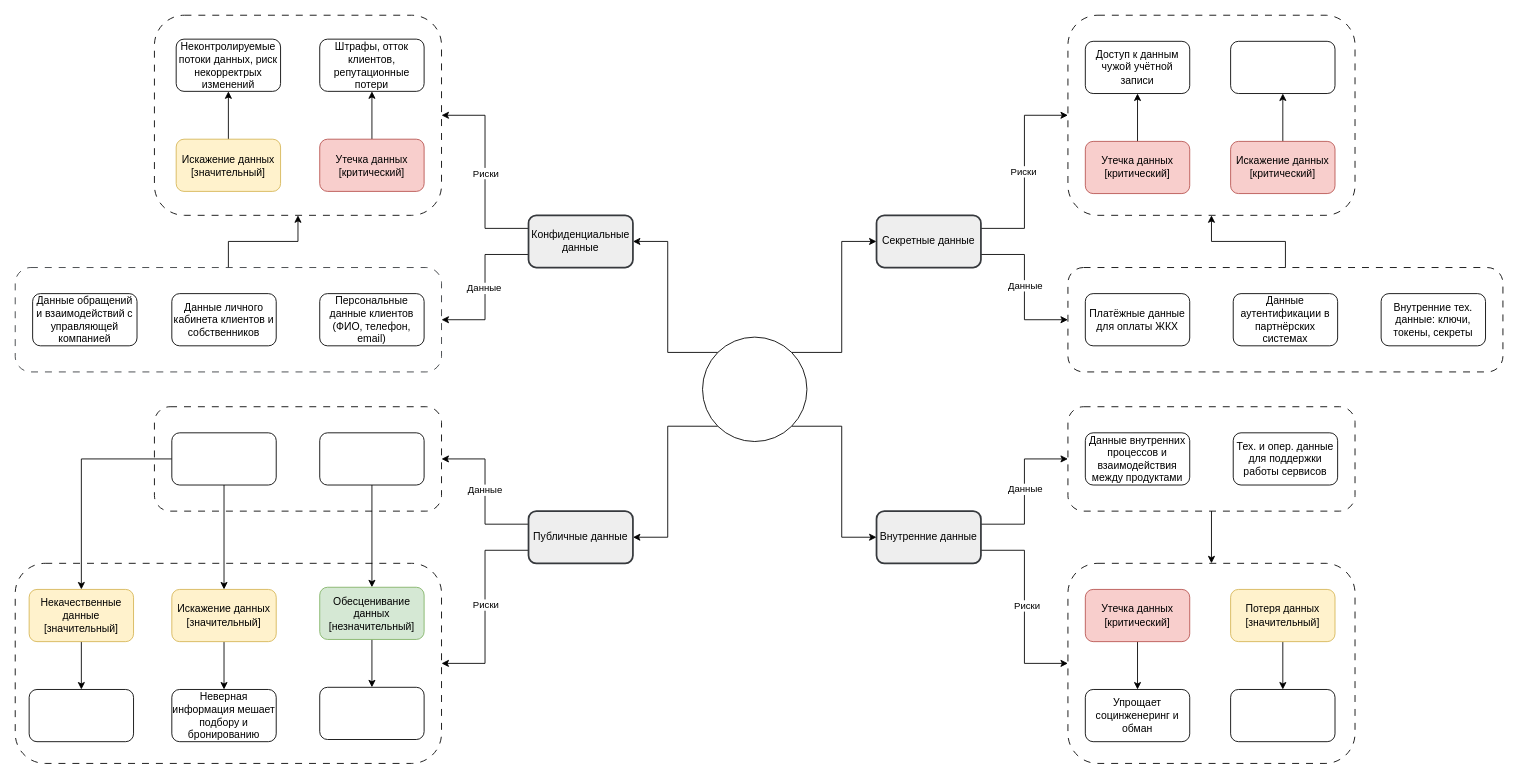
Some shapes in this 1518 by 779 pixel diagram are drawn without their labels. Here are the shapes that lost their labels. From the top down, the box of each, then its label:
(1230, 40, 1335, 94): Изменение данных чужой учётной записи
(702, 336, 807, 442): Безопасность данных
(171, 432, 276, 485): Публичная информация о компании и услугах
(319, 432, 424, 485): Публичные страницы витрины без авторизации
(28, 689, 134, 742): Ошибки в пуб. данных ухудшают клиентский опыт
(319, 686, 424, 740): Грозит репутационными рисками
(1230, 689, 1335, 742): Сложность реагирования на инциденты
